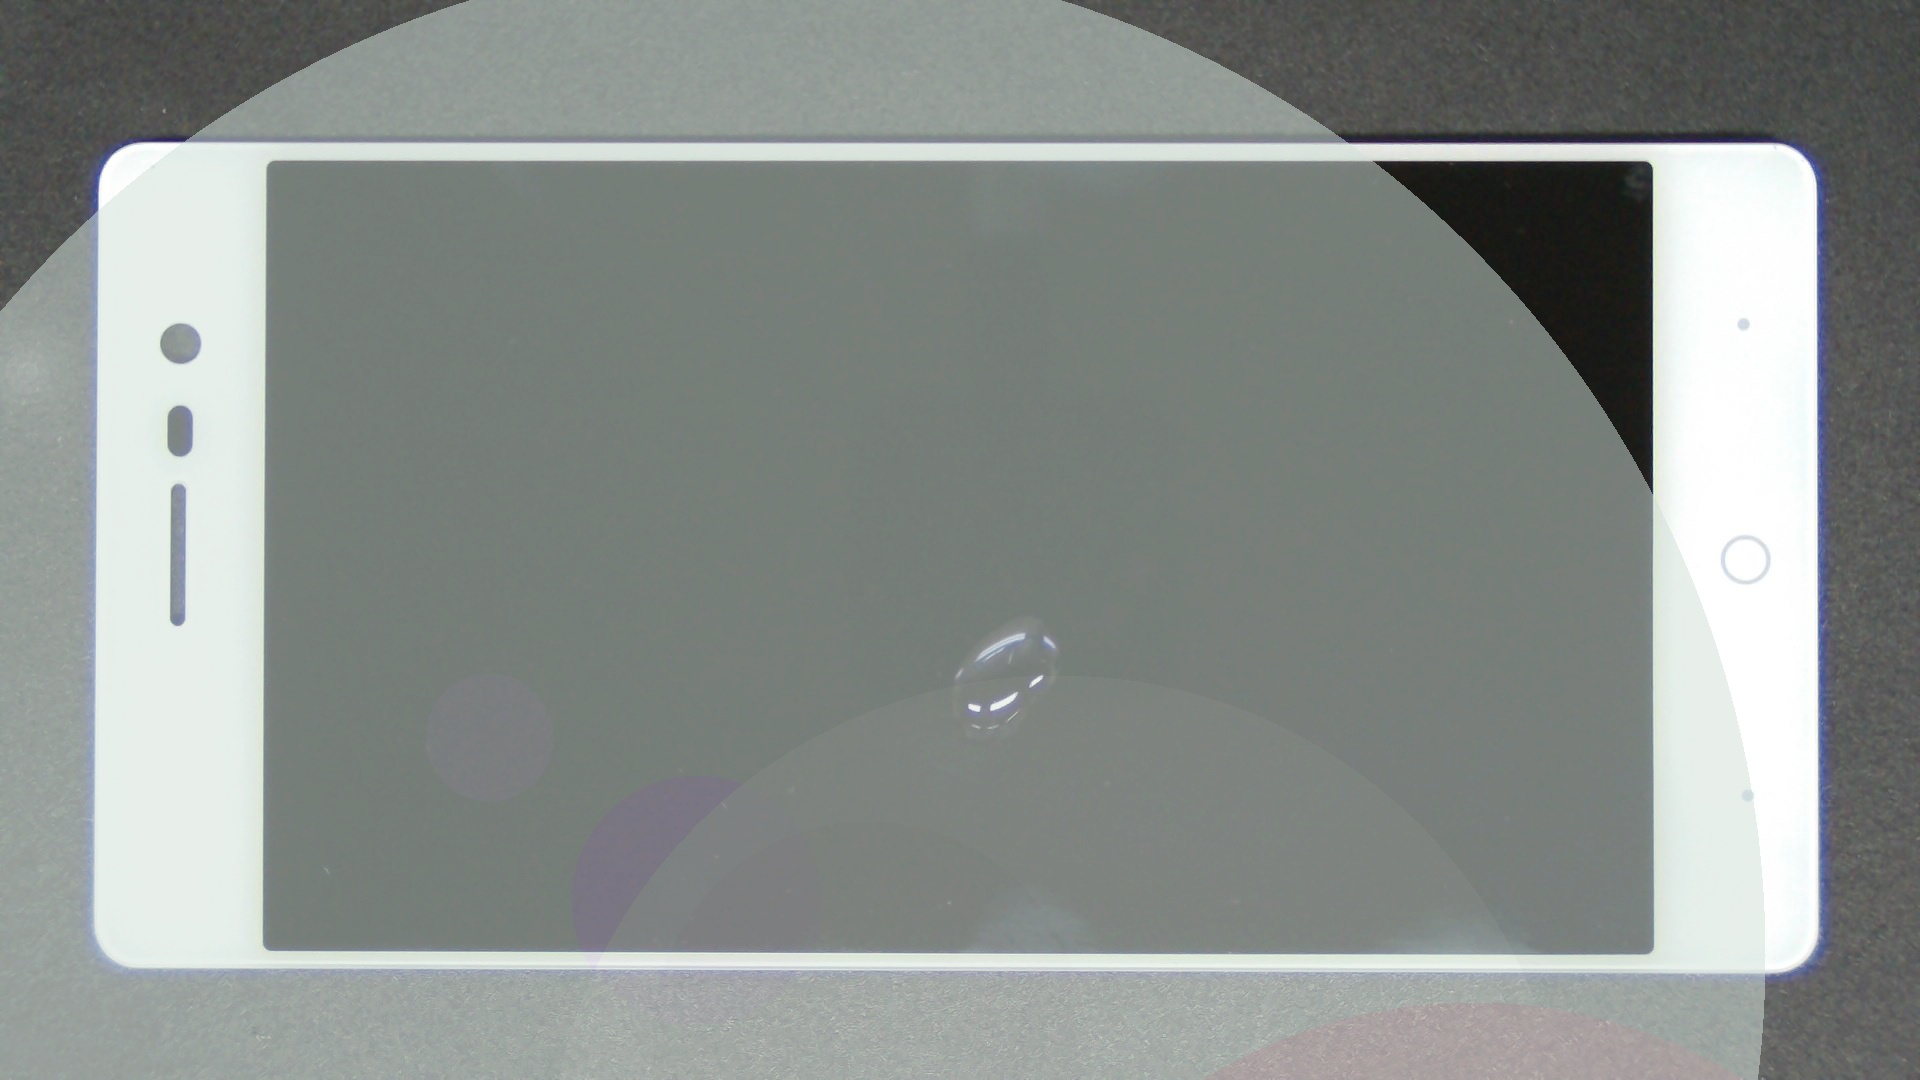oil: (516, 307, 1543, 924)
